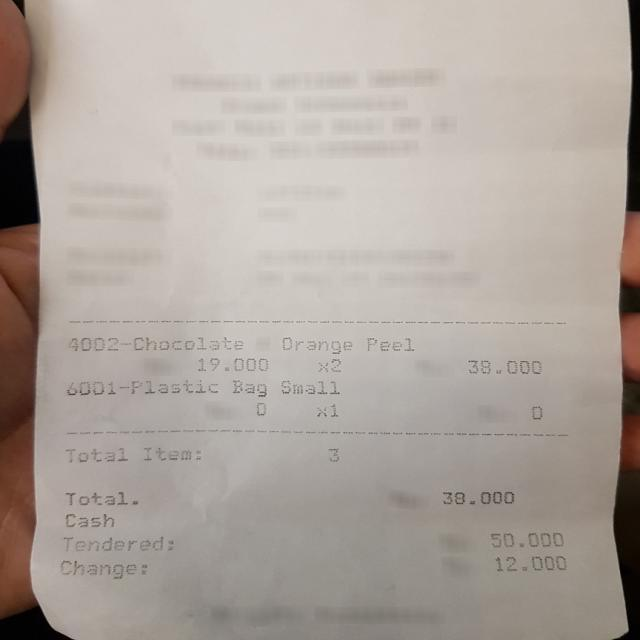kertas: (28, 0, 631, 640)
